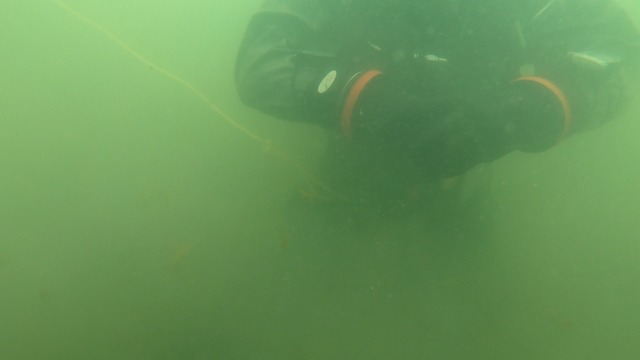Diver: (226, 2, 635, 172)
Hand: (417, 80, 533, 185), (316, 67, 454, 149)
